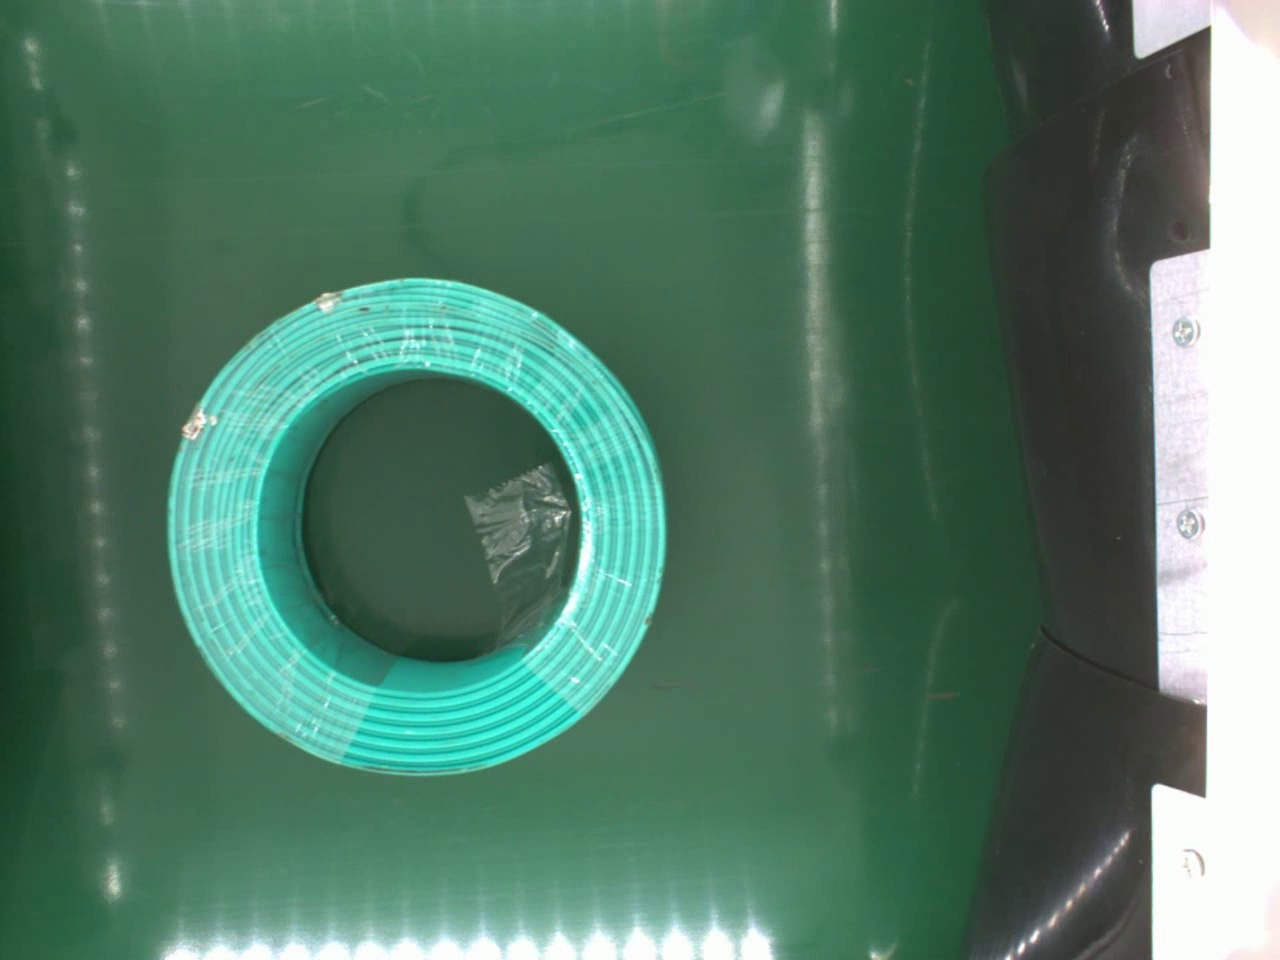green: (170, 267, 674, 781)
